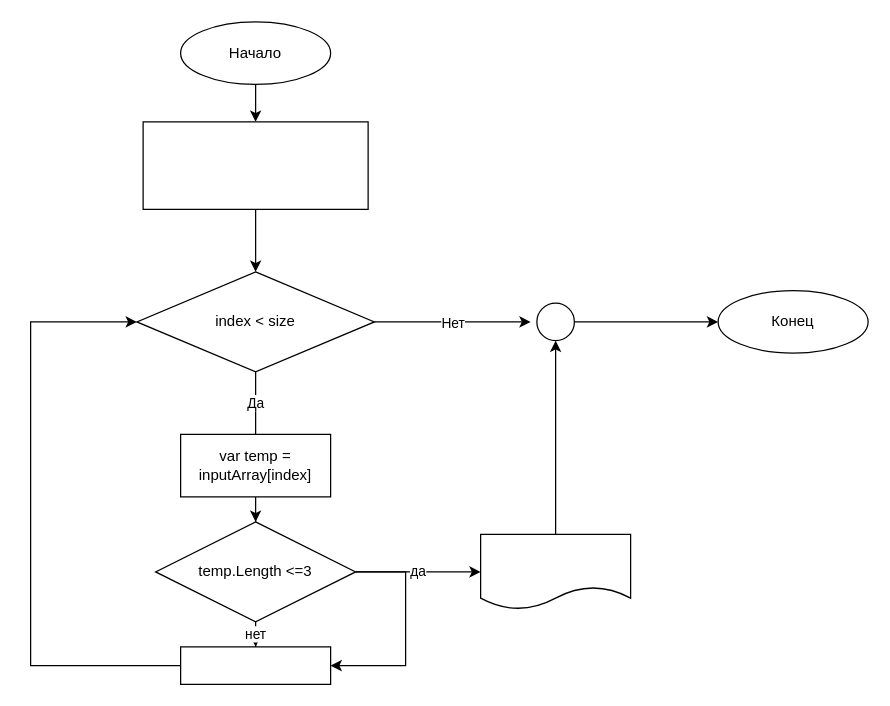
Image size: 890x706. Some labels were removed from this diagram. Here are the shapes that lost their labels. From the top down, the centre of each, then its label:
pixel 255 165: string[] inputArray = {"Hello", "2", "world", ":)"} index = 0 size = 4
pixel 555 571: Вывести temp
pixel 255 665: index ++
